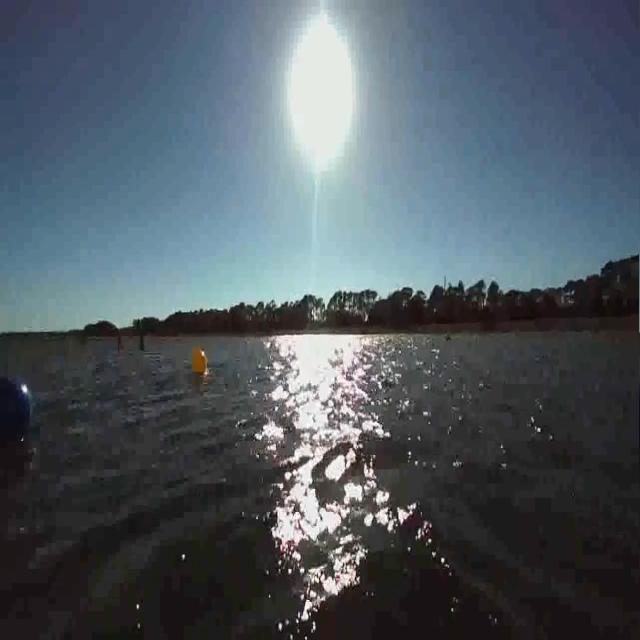blue-buoy: (0, 370, 35, 454)
green-column-buoy: (137, 322, 148, 355)
yellow-buoy: (193, 346, 209, 376)
